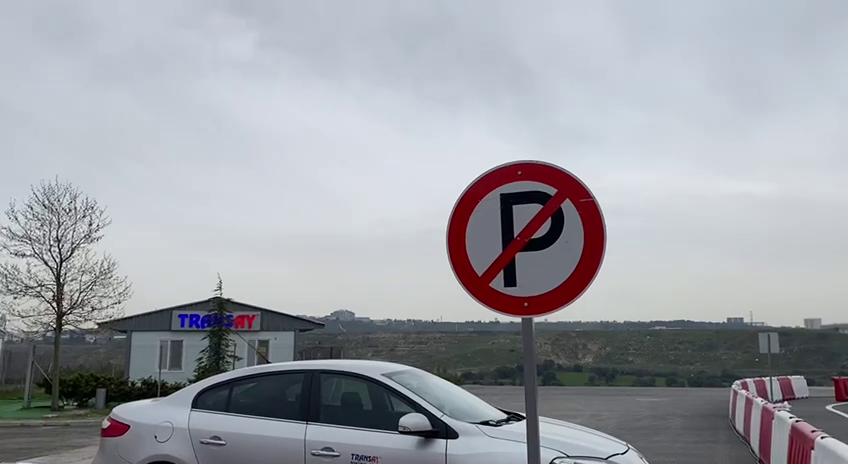noparking: (442, 156, 610, 323)
